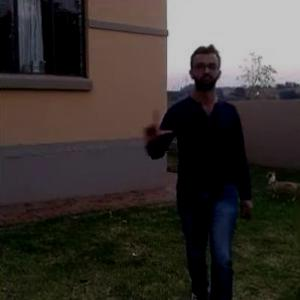land_hand: (136, 103, 175, 149)
